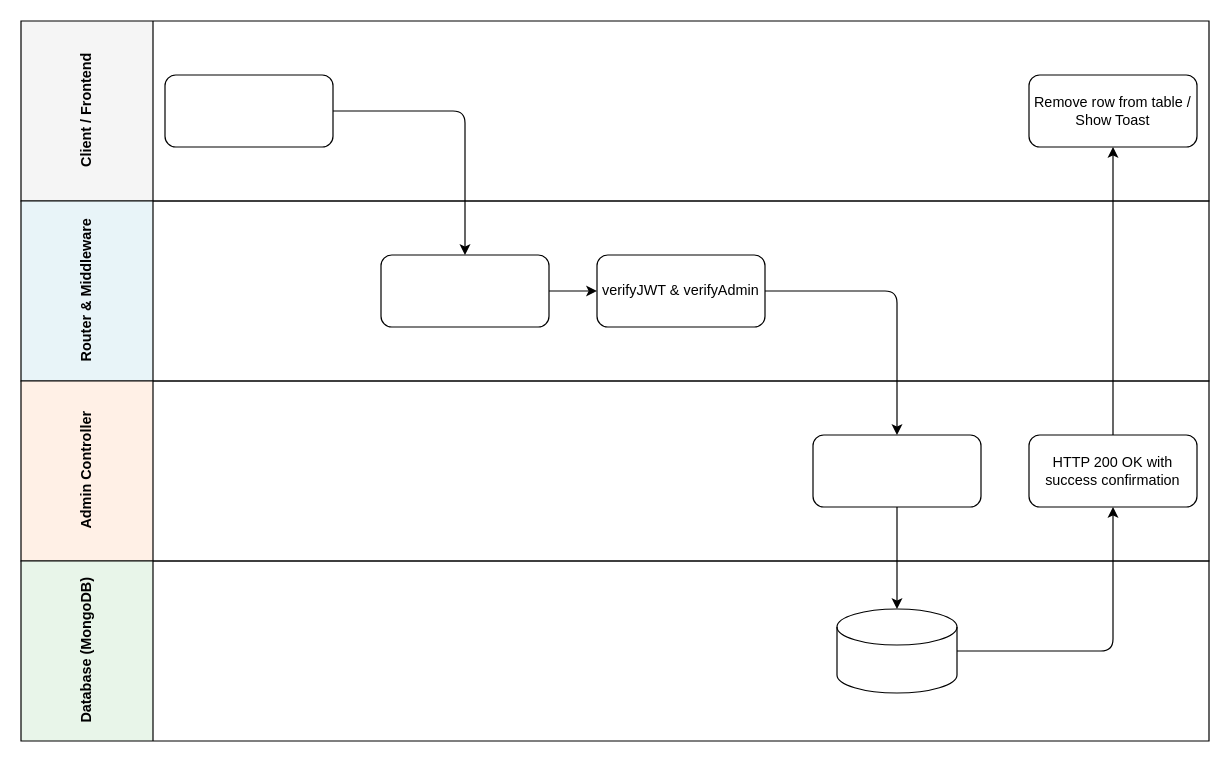
Some shapes in this 1230 by 762 pixel diagram are drawn without their labels. The shapes that lost their labels are listed below. From the top down, each one's centre as x and y in pixels, then its label:
the point at 248,110: Admin Clicks Delete button & Confirms
the point at 464,290: DELETE /admin/application/:applicationId
the point at 896,470: Application.findByIdAndDelete(applicationId)
the point at 896,650: Remove Application Doc
